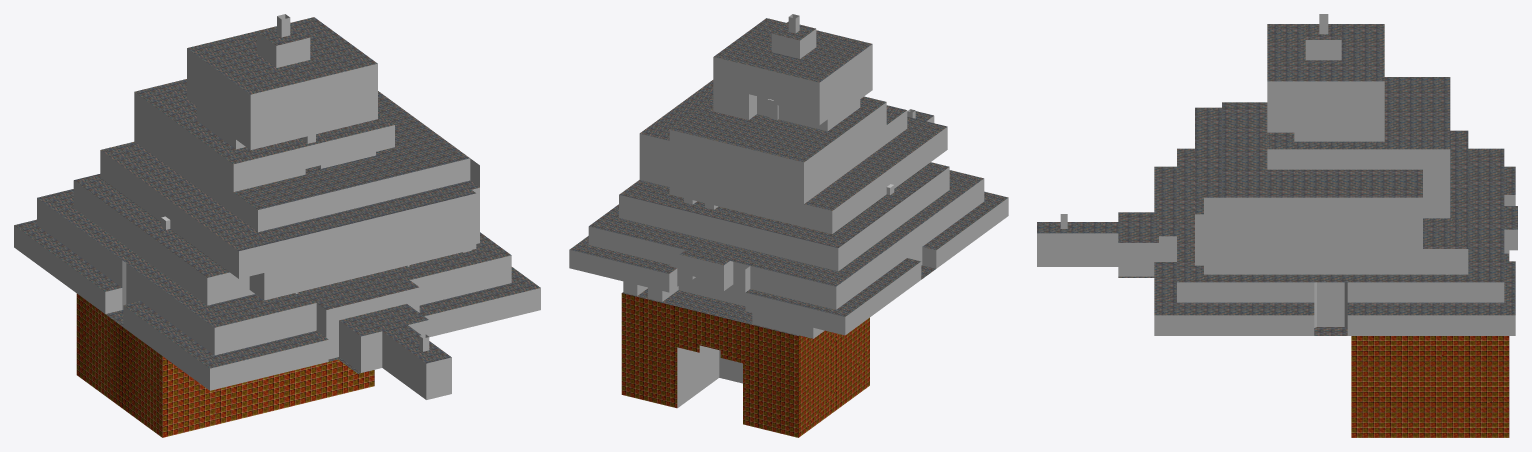
The model's file is desert_py_all.obj.
3 views of the same model, side by side, from view 1: azimuth 30°, elevation 25°; view 2: azimuth 150°, elevation 25°; view 3: azimuth 270°, elevation 25° (orthographic). The views are drawn at different scales.
Visible parts, largest first — view 1: r0, r1; view 2: r0, r1; view 3: r0, r1.
Part boxes in pixels (x1=…): r0: x1=14, y1=14, x2=540, y2=399; r1: x1=76, y1=293, x2=374, y2=437; r0: x1=569, y1=14, x2=1008, y2=338; r1: x1=621, y1=288, x2=869, y2=437; r0: x1=1037, y1=14, x2=1517, y2=335; r1: x1=1351, y1=250, x2=1509, y2=437.
Bounding box in the file's own units: 7.8 × 9.15 × 10.65.
